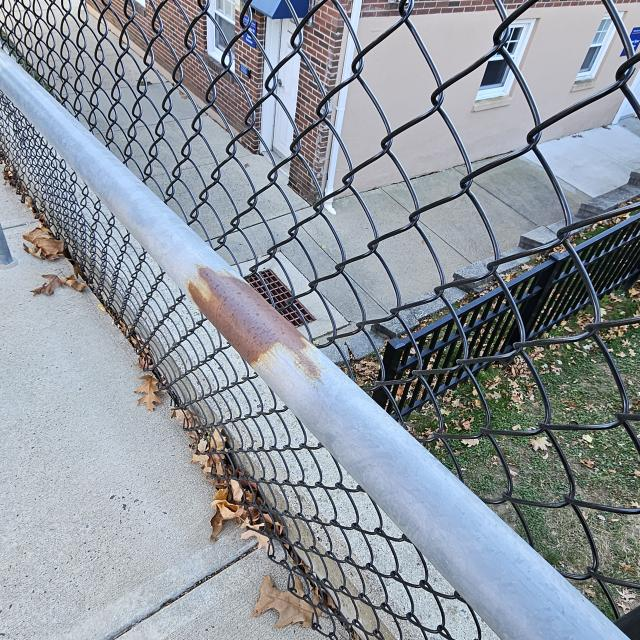Uniform Corrosion: (194, 275, 322, 368)
